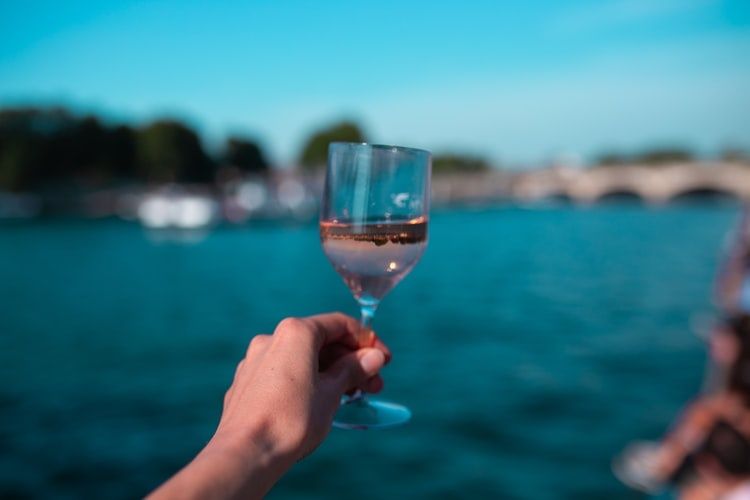whiskey: (313, 139, 442, 432)
